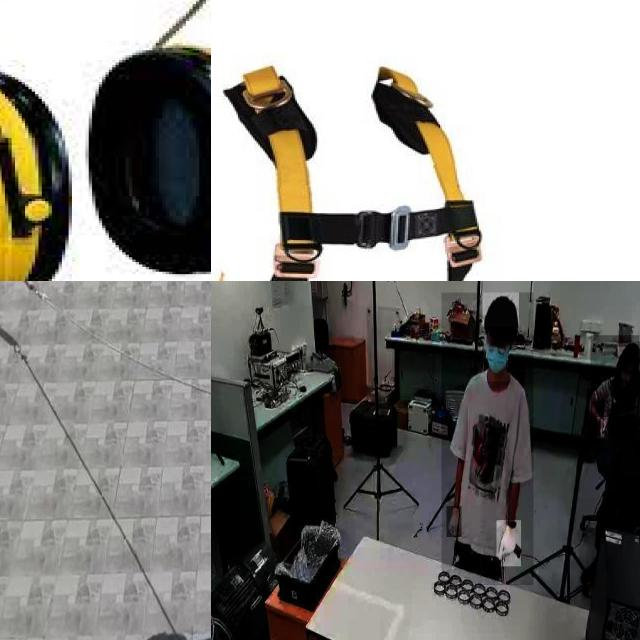Ear-protection: (0, 0, 211, 281)
Harness: (225, 66, 482, 281)
face_mask: (486, 331, 510, 381)
face_nomask: (620, 367, 633, 387)
hand_glove: (496, 520, 522, 567), (446, 506, 462, 538)
hand_noglove: (597, 417, 609, 439)
head_nohelmet: (482, 293, 520, 327), (618, 341, 640, 363)
person: (442, 292, 534, 586), (590, 335, 640, 436)
